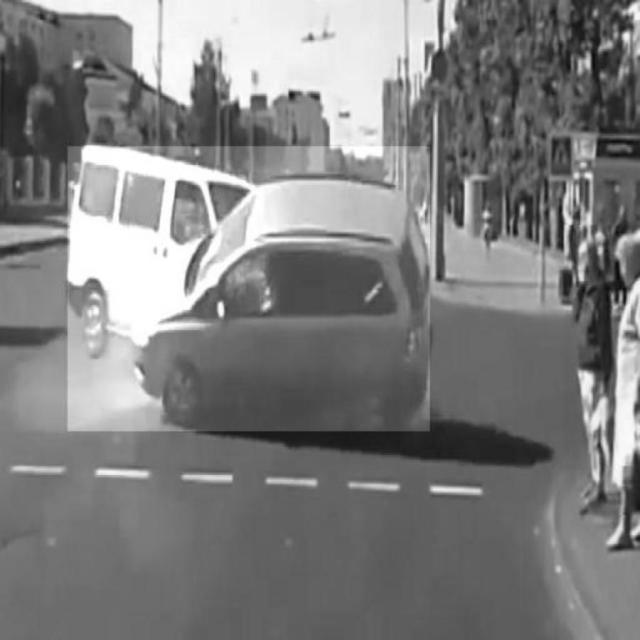accident: (68, 146, 430, 430)
vehicle: (564, 225, 628, 516)
